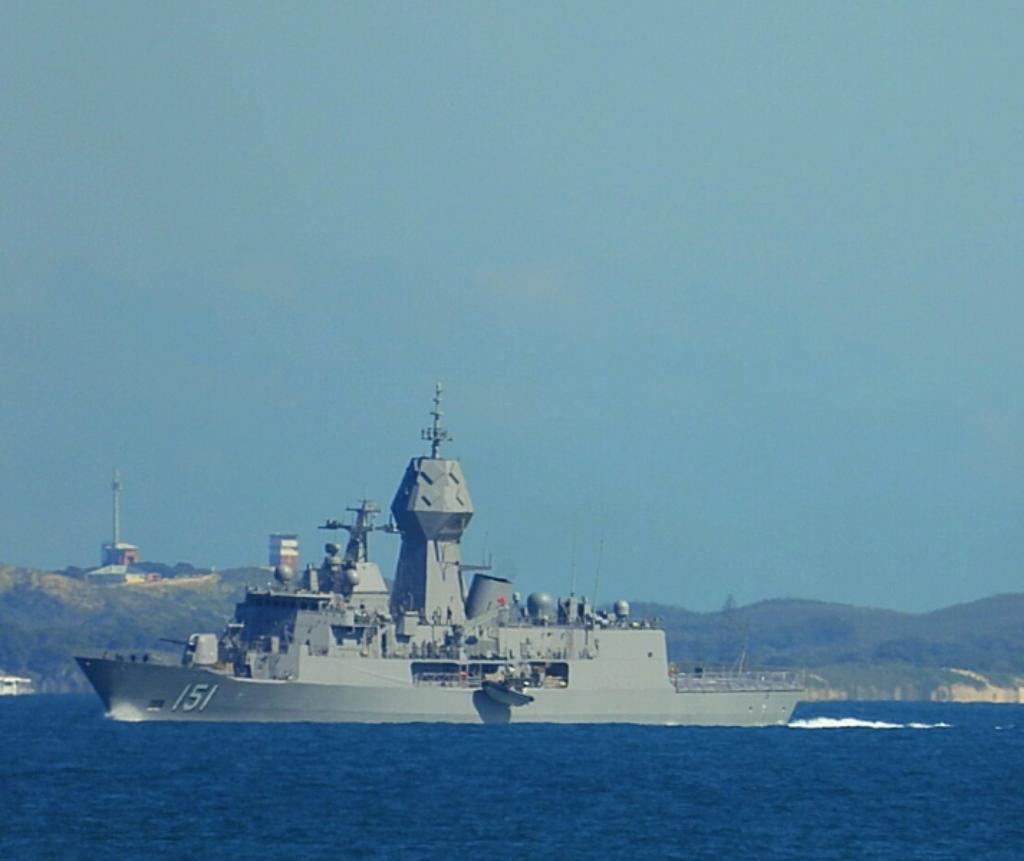Warship: (64, 392, 806, 734)
